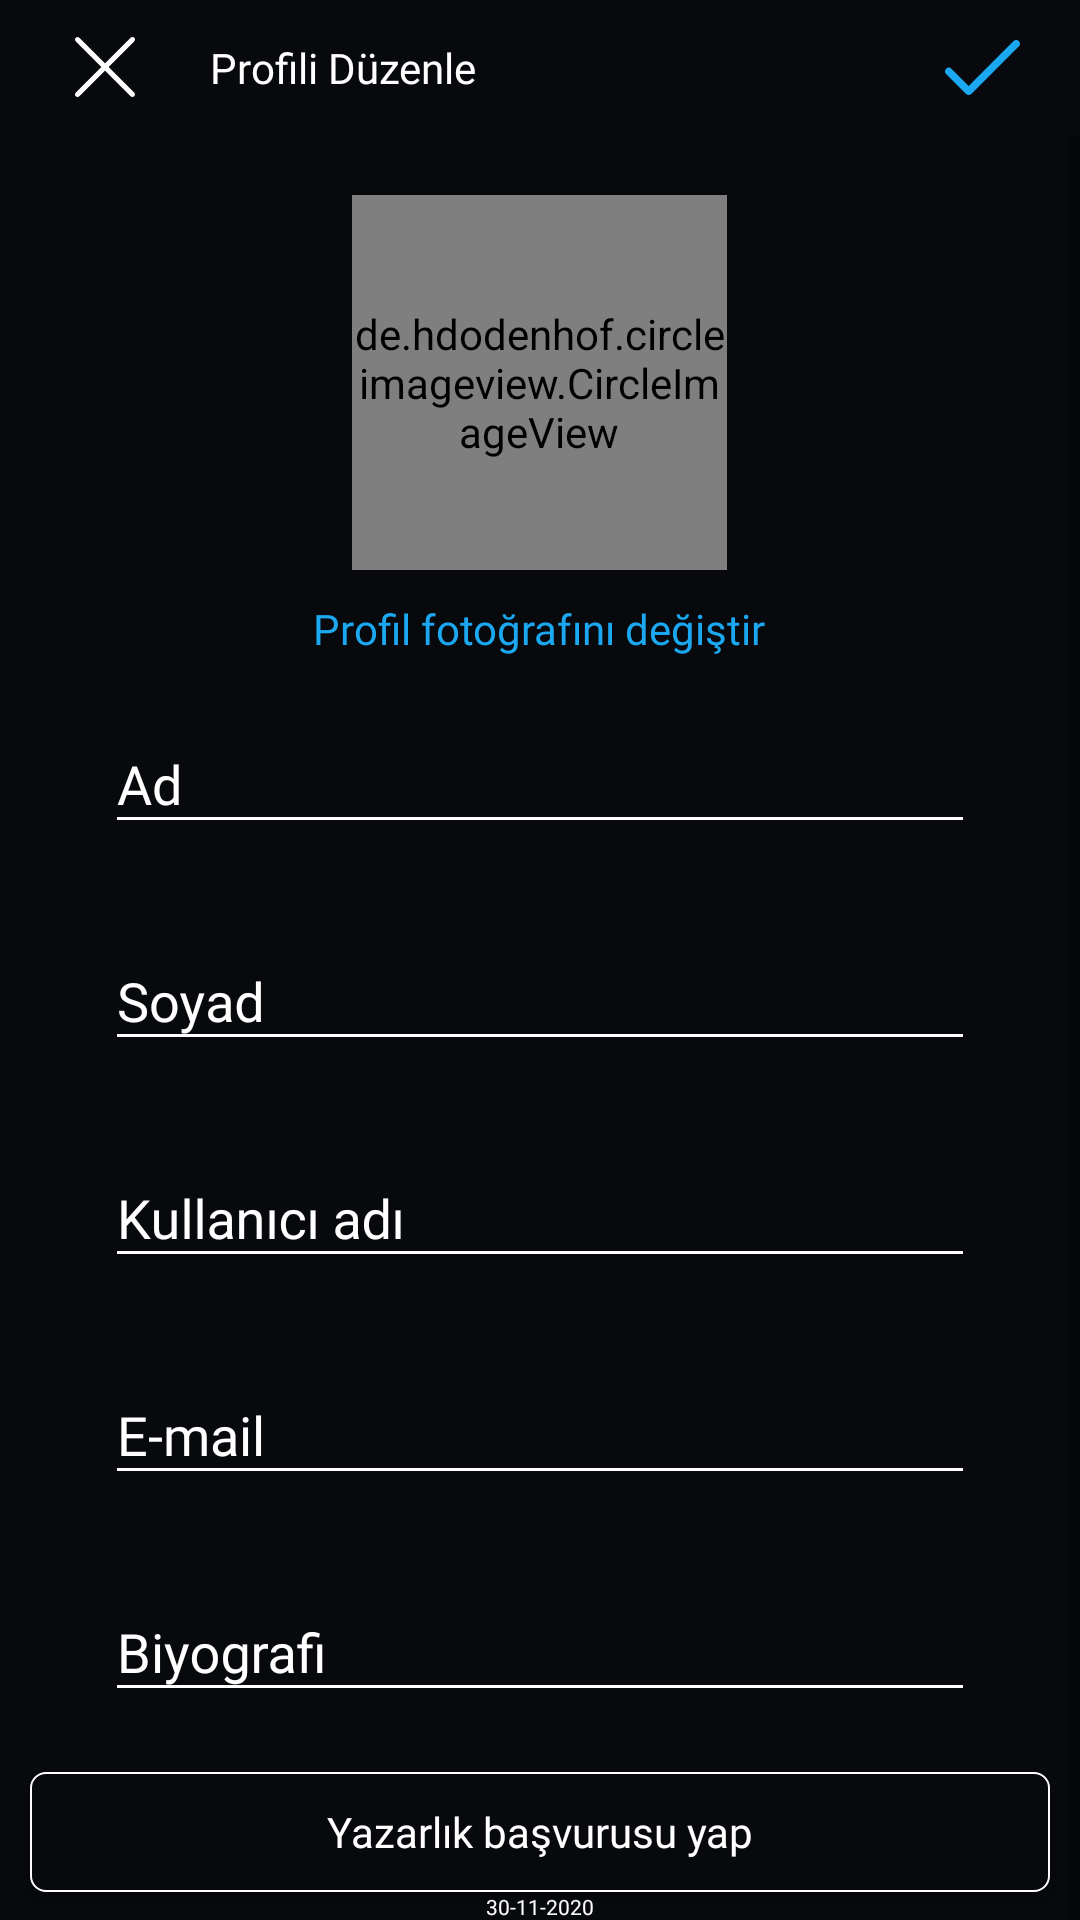

Icons on this 1080*1920 Android screen, each with the point to tap as point (x, y):
svgexit: point (105, 67)
tick: point (982, 67)
